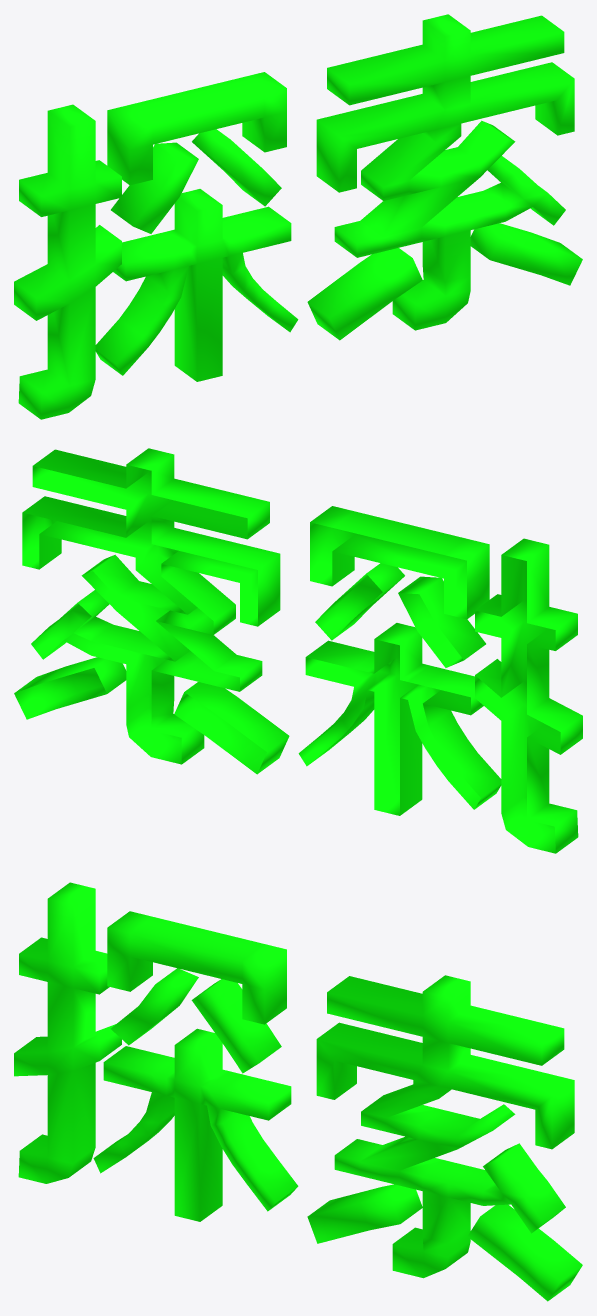
Rendered from Explore.glb.
3 views of the same model, one above another, from view 1: azimuth 30°, elevation 25°; view 2: azimuth 150°, elevation 25°; view 3: azimuth 330°, elevation 25° (orthographic).
Parts seen in each view (by area): view 1: Explore; view 2: Explore; view 3: Explore.
Part boxes in pixels (bbox=[...]): Explore: bbox=[14, 14, 582, 419]; Explore: bbox=[14, 448, 582, 853]; Explore: bbox=[14, 882, 582, 1301].
Bounding box in the file's own units: 0.9341 × 0.4698 × 0.0664.
1 material, 1 textured.
